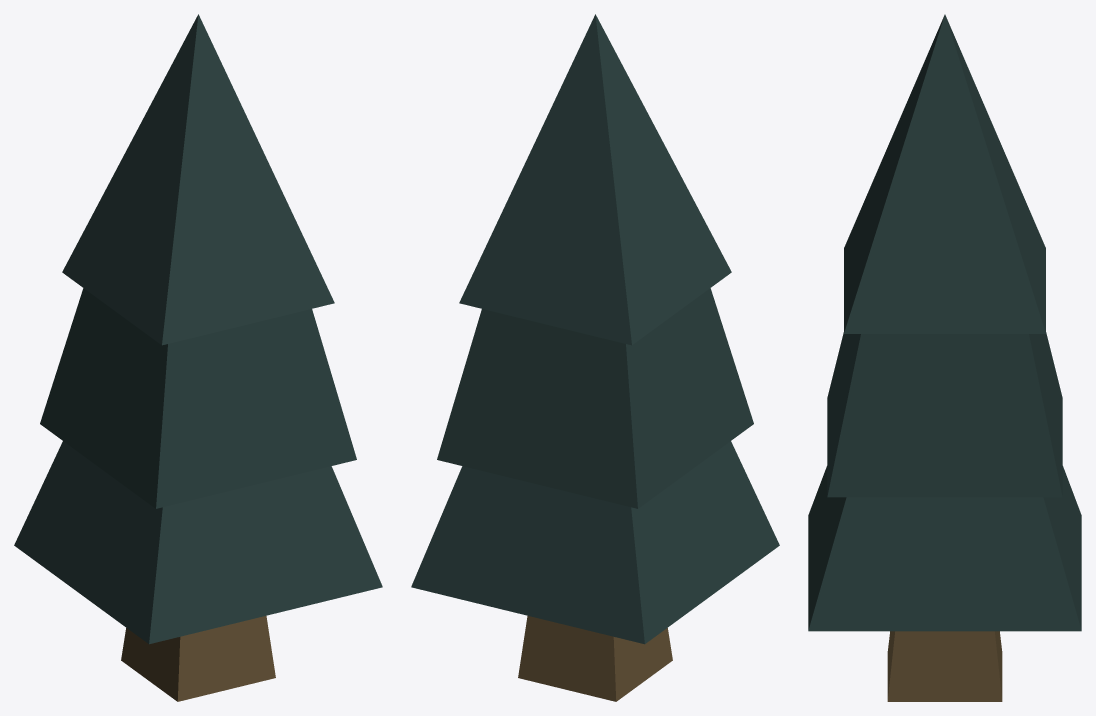
Rendered from Tree_02.obj.
3 views of the same model, side by side, from view 1: azimuth 30°, elevation 25°; view 2: azimuth 150°, elevation 25°; view 3: azimuth 270°, elevation 25° (orthographic).
Parts seen in each view (by area): view 1: Mesh1_Tree_Model.001; view 2: Mesh1_Tree_Model.001; view 3: Mesh1_Tree_Model.001.
Boxes of the visible parts, x1=… form: Mesh1_Tree_Model.001: x1=14, y1=14, x2=382, y2=701; Mesh1_Tree_Model.001: x1=411, y1=14, x2=779, y2=701; Mesh1_Tree_Model.001: x1=808, y1=14, x2=1081, y2=701.
Size of the model in its own units: 1.18 by 3.16 by 1.18.
